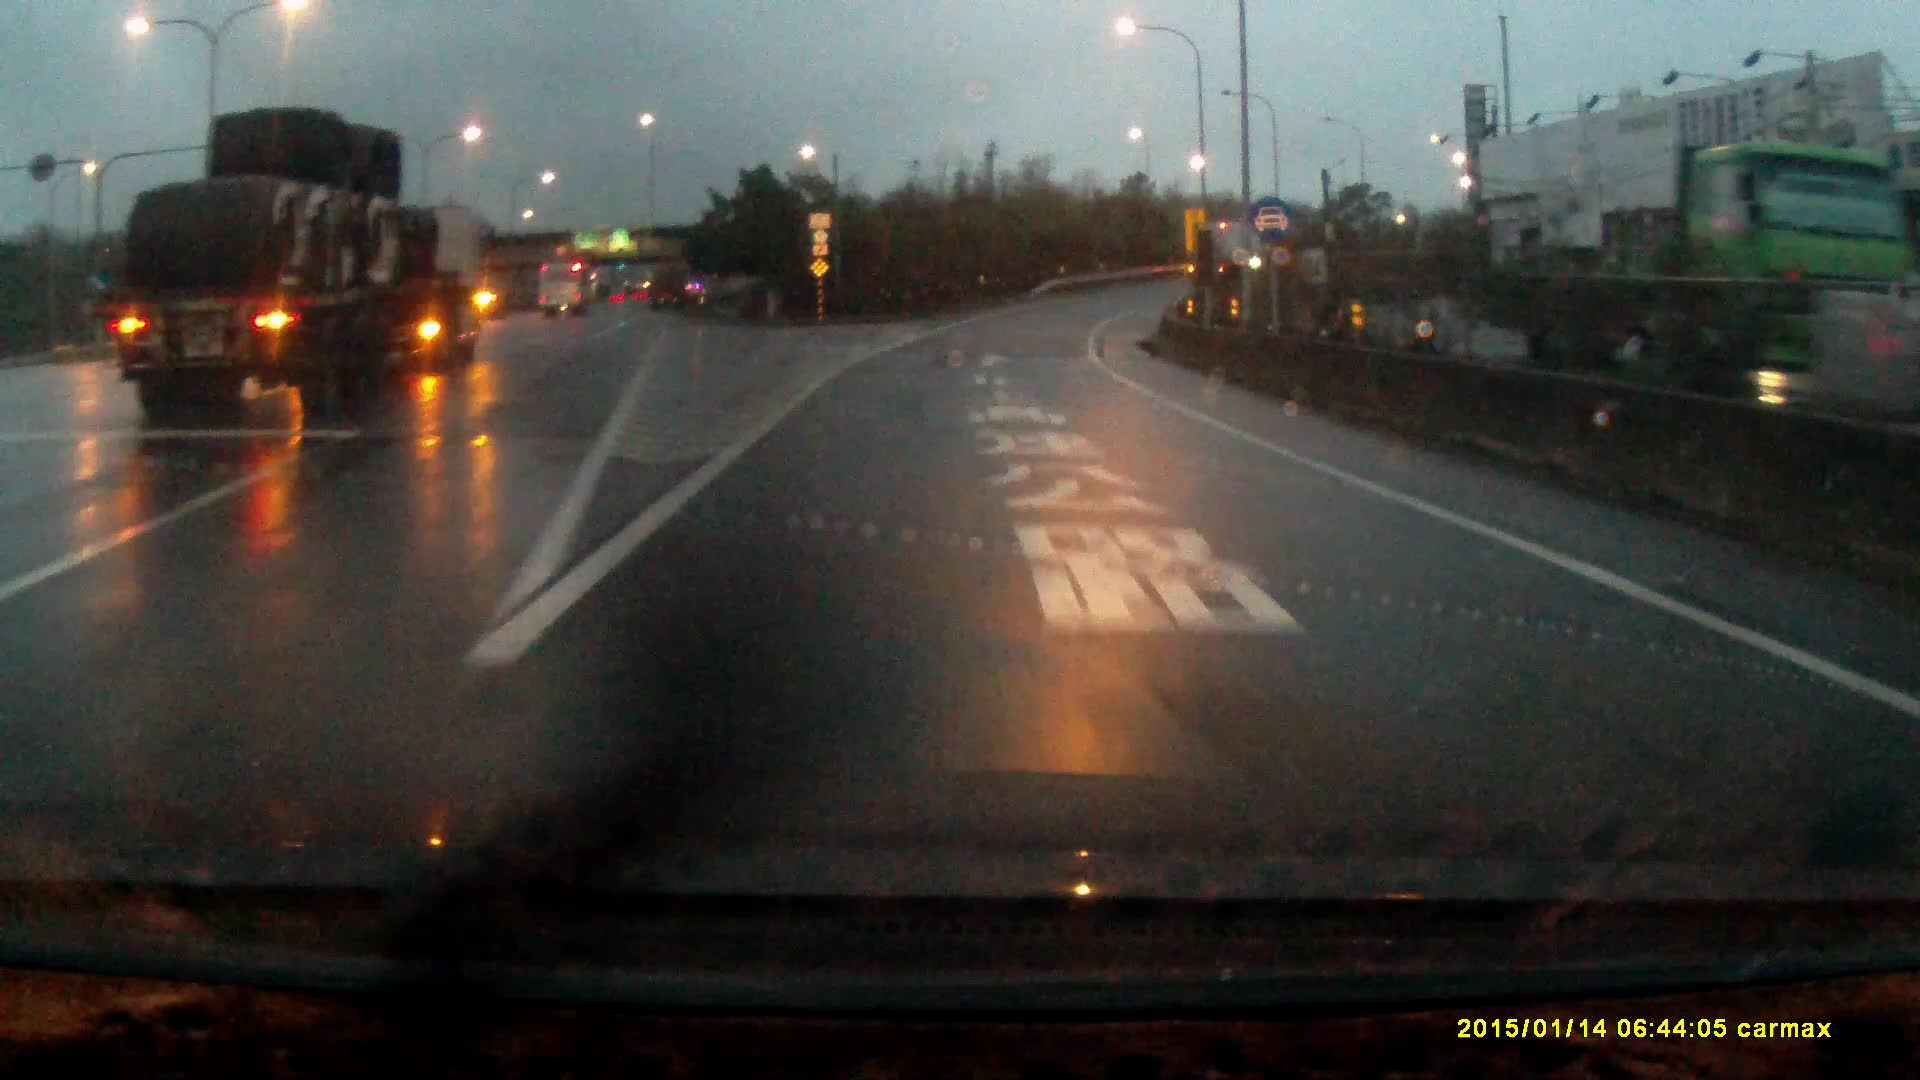vehicle: (95, 111, 496, 411), (539, 264, 593, 322)
